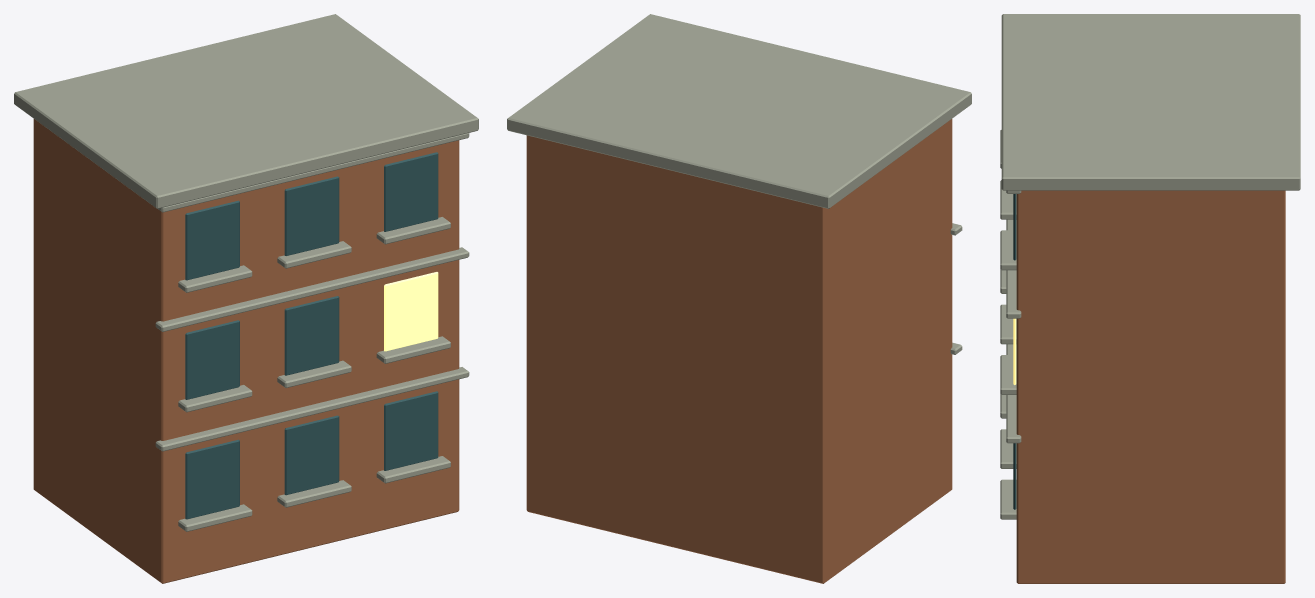
File: apartment_red.glb
3 renders of one model, left to right at view 1: azimuth 30°, elevation 25°; view 2: azimuth 150°, elevation 25°; view 3: azimuth 270°, elevation 25°, orthographic. The views are drawn at different scales.
Parts seen in each view (by area): view 1: apartment_red.001; view 2: apartment_red.001; view 3: apartment_red.001.
Part boxes in pixels (<box>): apartment_red.001: <box>14,14,478,583</box>; apartment_red.001: <box>507,14,971,583</box>; apartment_red.001: <box>1000,14,1300,583</box>.
Size of the model in its own units: 6.5 by 7.62 by 5.02.
